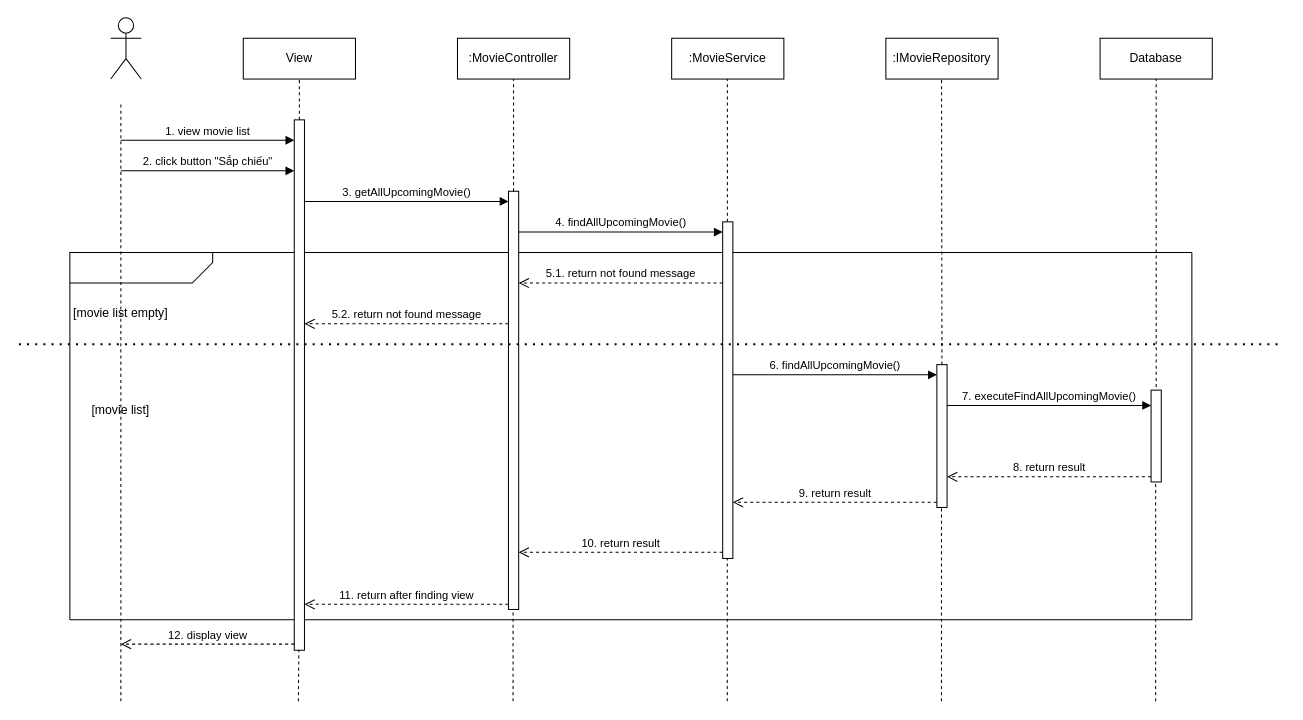
This 1303x720 diagram has some shape labels left out. Each missing label, with the centre of its shape:
alt list movie: point (141, 267)
Employee: point (125, 48)
